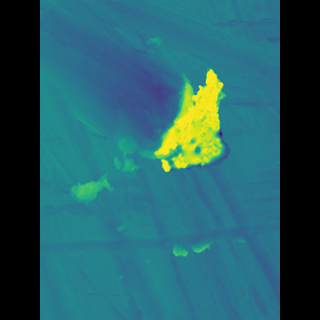Loch: (145, 59, 218, 182), (69, 219, 250, 256)
